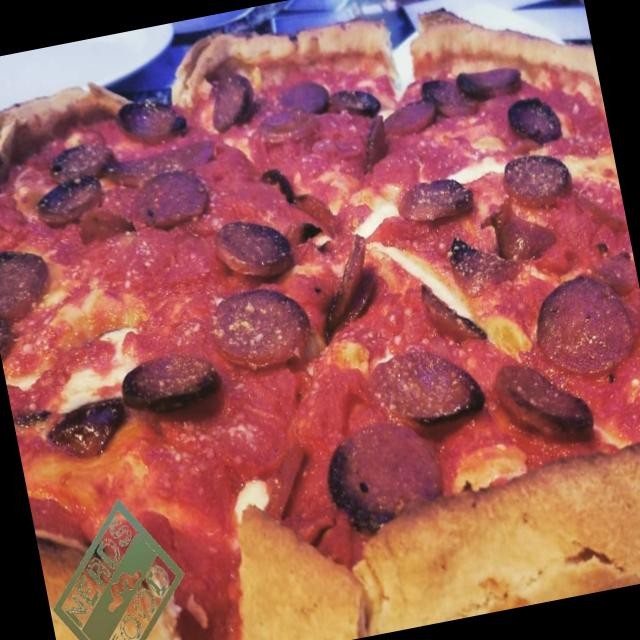pepperoni: (319, 412, 449, 538), (524, 266, 636, 386), (364, 334, 486, 436), (491, 346, 596, 458), (202, 280, 316, 380), (119, 344, 228, 422), (313, 233, 386, 329), (212, 210, 296, 290), (123, 164, 215, 234), (492, 140, 574, 209), (0, 237, 56, 326), (445, 228, 513, 300), (488, 200, 558, 268), (394, 168, 471, 228), (32, 174, 108, 234), (454, 52, 526, 111), (113, 90, 186, 148), (44, 136, 120, 190), (504, 92, 565, 154), (419, 68, 479, 130), (418, 272, 471, 342), (203, 72, 261, 134), (255, 102, 318, 152), (72, 202, 133, 251), (275, 74, 334, 124), (381, 93, 437, 144), (328, 82, 384, 128), (356, 114, 394, 170)
pizza: (0, 7, 640, 640)
